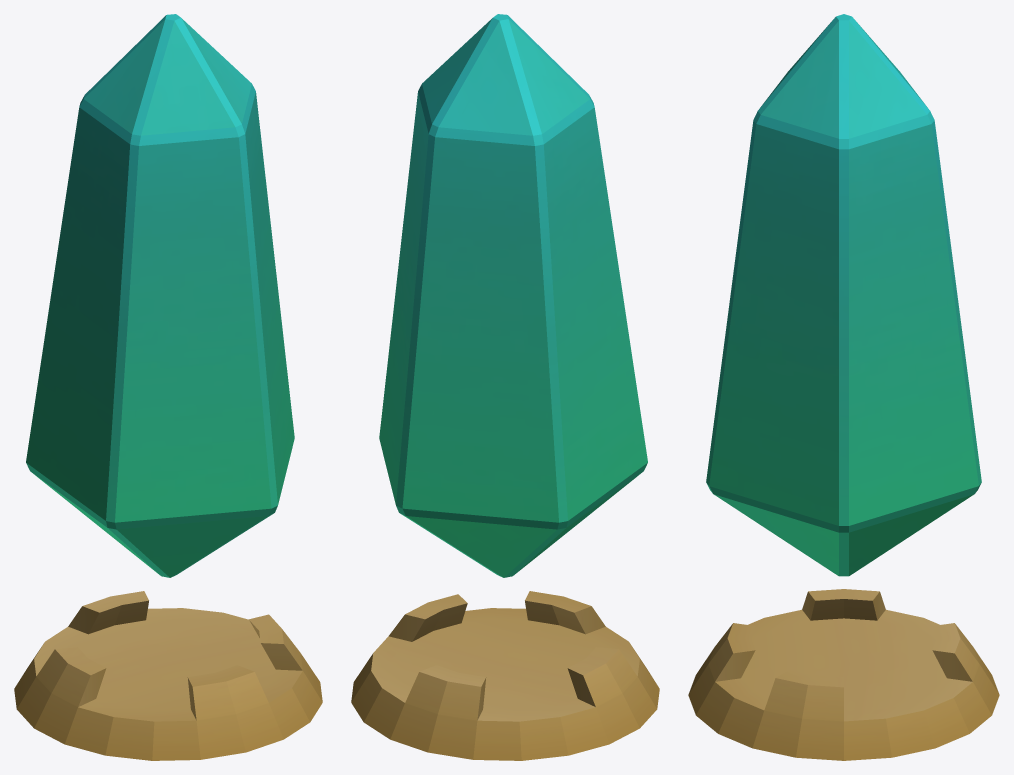
File: OBJ_AetherCrystal.fbx
The picture shows the model from 3 angles, left to right: view 1: azimuth 30°, elevation 25°; view 2: azimuth 150°, elevation 25°; view 3: azimuth 270°, elevation 25°; orthographic projection.
Visible parts, largest first — view 1: OBJ_Crystal, OBJ_Base; view 2: OBJ_Crystal, OBJ_Base; view 3: OBJ_Crystal, OBJ_Base.
Boxes of the visible parts, box(x1,y1,x2,y2) form: OBJ_Crystal: box(26, 14, 294, 577); OBJ_Base: box(14, 591, 322, 760); OBJ_Crystal: box(379, 14, 647, 577); OBJ_Base: box(351, 591, 659, 760); OBJ_Crystal: box(706, 14, 981, 576); OBJ_Base: box(688, 589, 999, 760).
Bounding box in the file's own units: 44.7 × 108 × 44.7.
